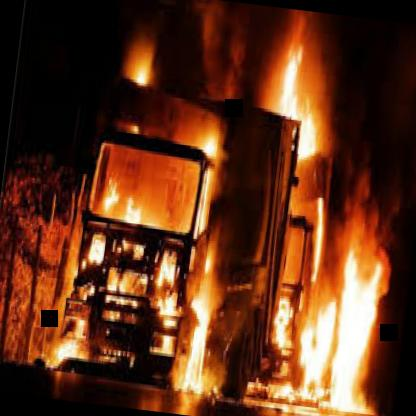fire: (218, 70, 400, 416), (64, 74, 240, 379)
